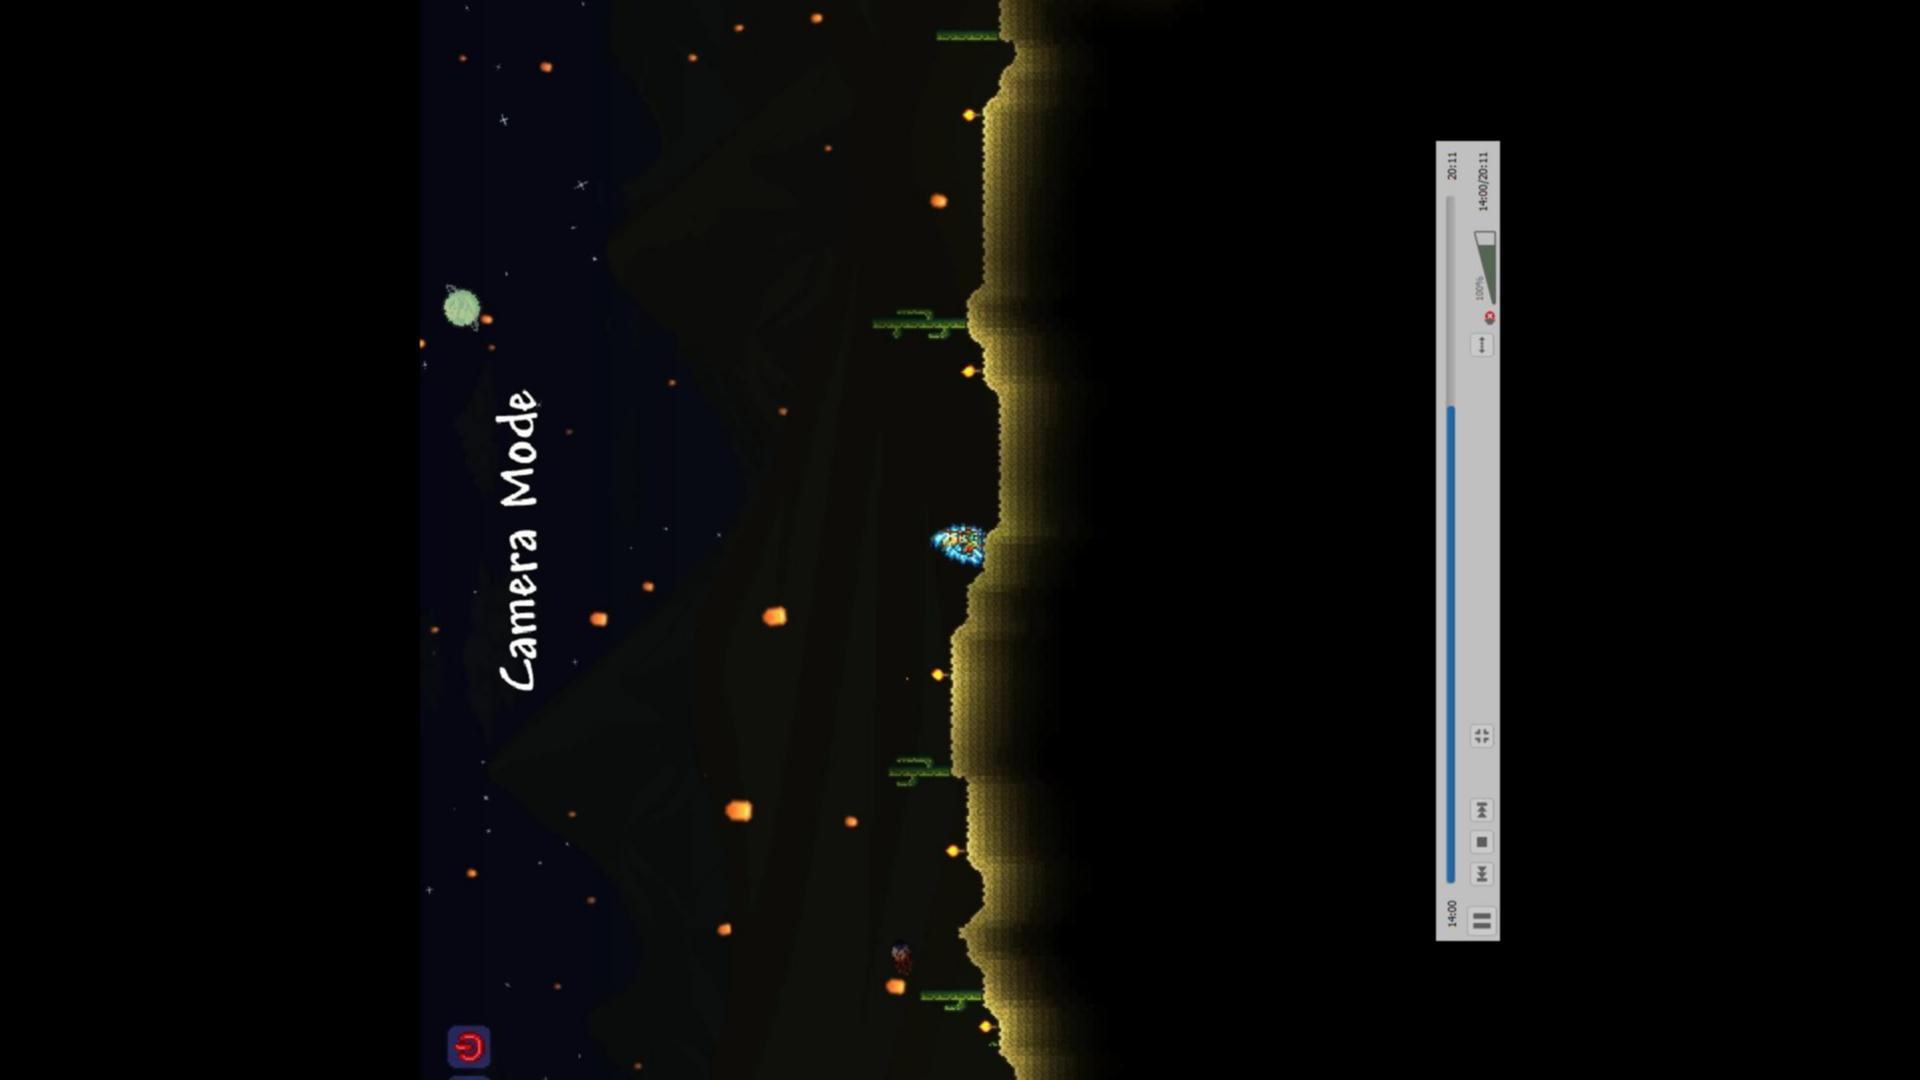eye: (887, 932, 919, 977)
